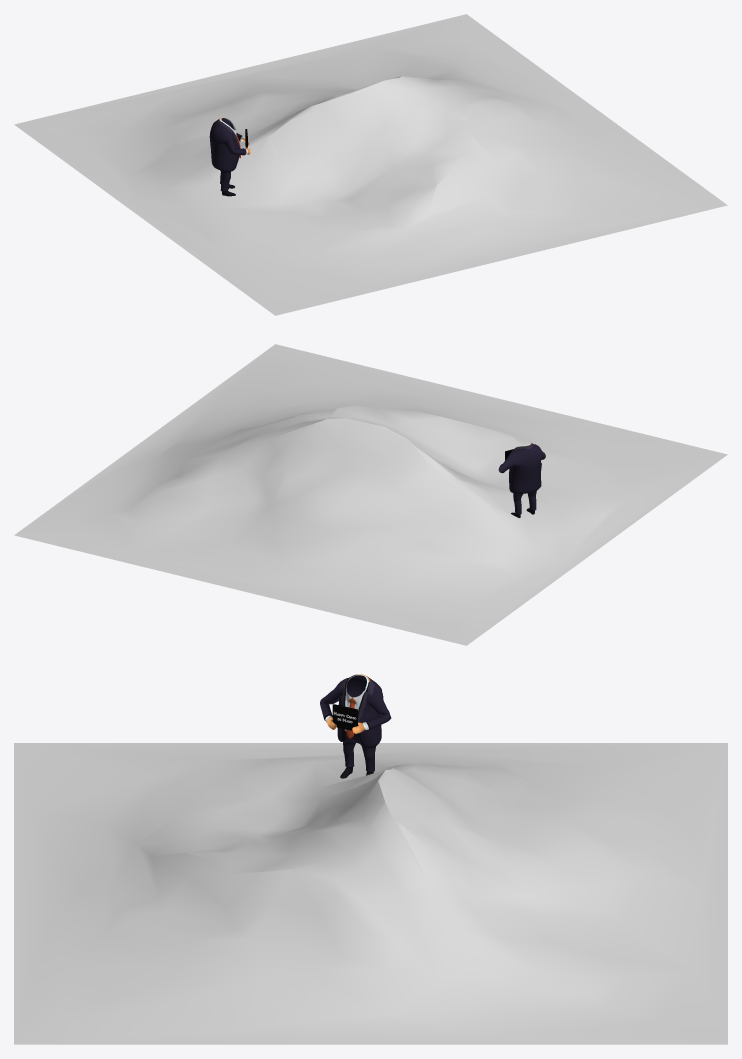
The model's file is presidente_01.obj.
3 renders of one model, top to bottom at view 1: azimuth 30°, elevation 25°; view 2: azimuth 150°, elevation 25°; view 3: azimuth 270°, elevation 25°, orthographic. The views are drawn at different scales.
Parts seen in each view (by area): view 1: Cube.1; view 2: Cube.1; view 3: Cube.1.
Boxes of the visible parts, x1,y1,x2,y2 form: Cube.1: [14, 14, 727, 315]; Cube.1: [14, 344, 727, 645]; Cube.1: [14, 674, 727, 1044].
Bounding box in the file's own units: 600 × 108 × 600.
3 materials, 1 textured.
